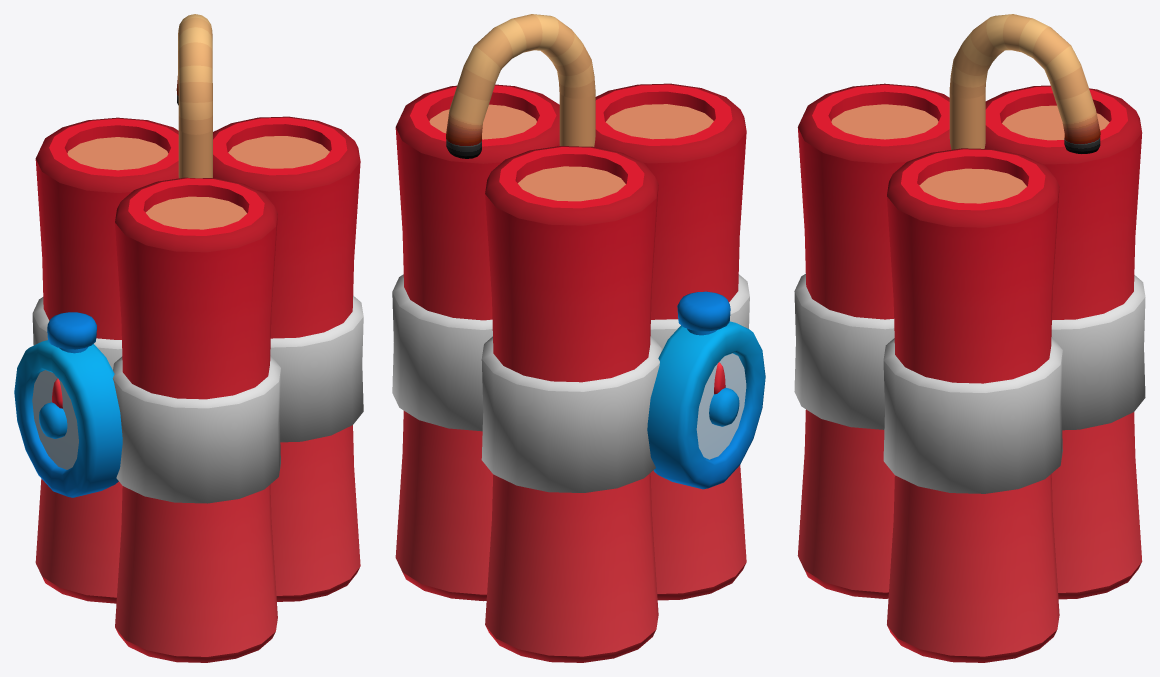
The model's file is Dynamite_V1_00.fbx.
3 views of the same model, side by side, from view 1: azimuth 30°, elevation 25°; view 2: azimuth 150°, elevation 25°; view 3: azimuth 270°, elevation 25° (orthographic). The views are drawn at different scales.
Visible parts, largest first — view 1: Dynamite_V1_00; view 2: Dynamite_V1_00; view 3: Dynamite_V1_00.
Boxes of the visible parts, box(x1,y1,x2,y2) form: Dynamite_V1_00: box(14, 14, 363, 662); Dynamite_V1_00: box(392, 14, 765, 662); Dynamite_V1_00: box(794, 14, 1145, 662).
Size of the model in its own units: 23.98 by 40.83 by 22.32.
